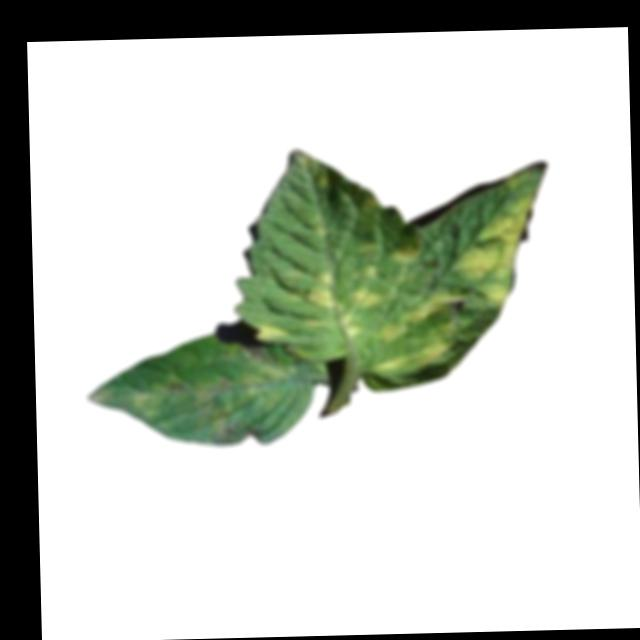Leaf_Mold: (86, 332, 315, 448), (452, 191, 535, 313), (374, 293, 459, 373), (301, 260, 376, 341), (384, 236, 423, 264), (253, 323, 287, 340), (354, 189, 376, 208)
